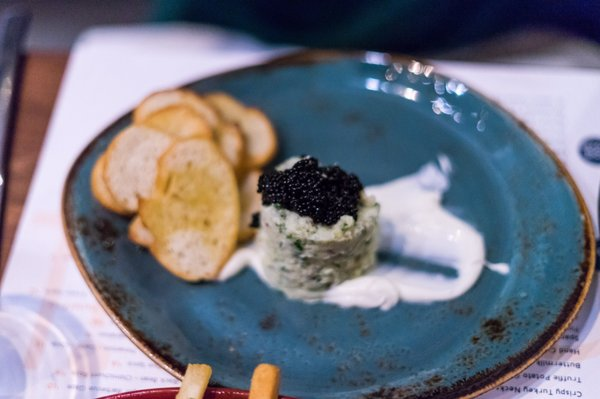pasta: (127, 138, 241, 284)
